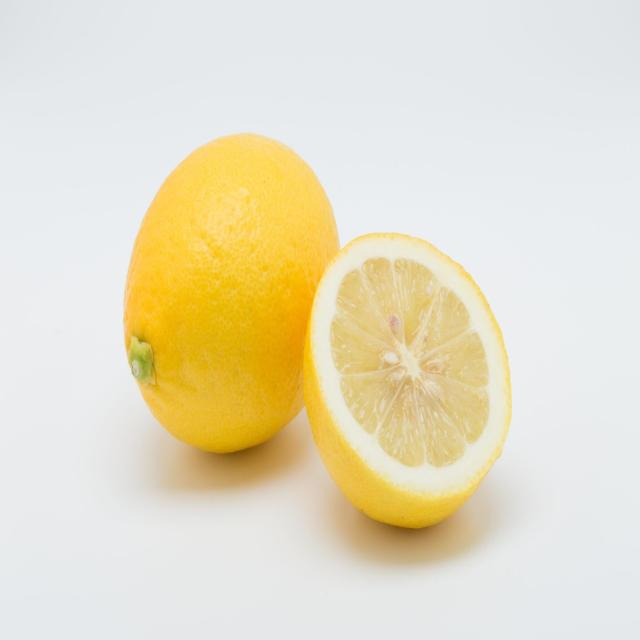lemon: (115, 127, 342, 459), (298, 223, 514, 534)
